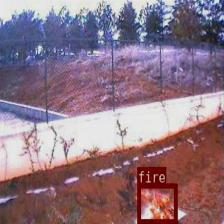fire: (137, 183, 177, 223)
